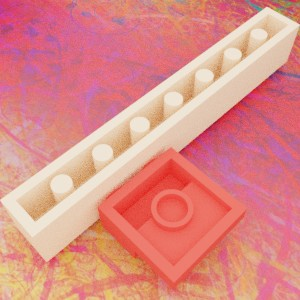lego: (0, 6, 300, 262), (97, 146, 247, 289)
